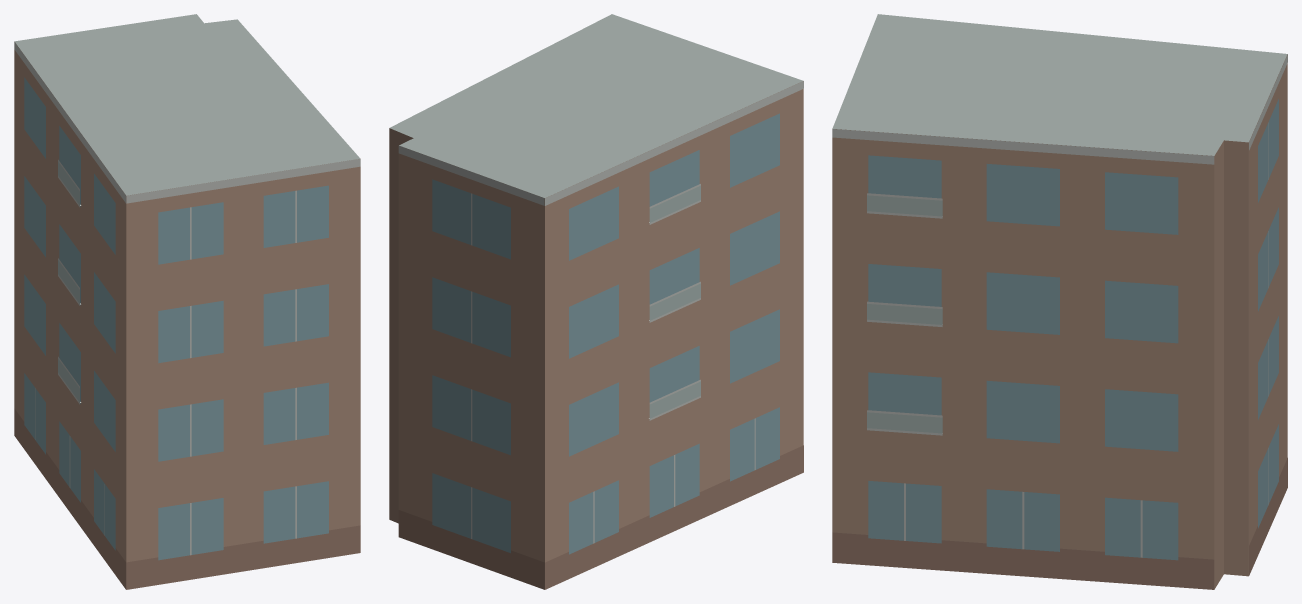
File: survey-upis-32957168.glb
3 views of the same model, side by side, from view 1: azimuth 30°, elevation 25°; view 2: azimuth 150°, elevation 25°; view 3: azimuth 270°, elevation 25° (orthographic). The views are drawn at different scales.
Parts seen in each view (by area): view 1: survey-upis-32957168.tmp; view 2: survey-upis-32957168.tmp; view 3: survey-upis-32957168.tmp.
Boxes of the visible parts, box(x1,y1,x2,y2) form: survey-upis-32957168.tmp: box(14, 14, 360, 589); survey-upis-32957168.tmp: box(389, 14, 803, 589); survey-upis-32957168.tmp: box(832, 14, 1287, 589).
Bounding box in the file's own units: 8.5 × 12.1 × 11.52.
